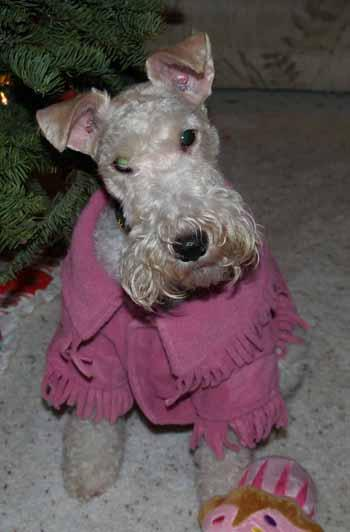wire-haired_fox_terrier: (33, 30, 311, 505)
